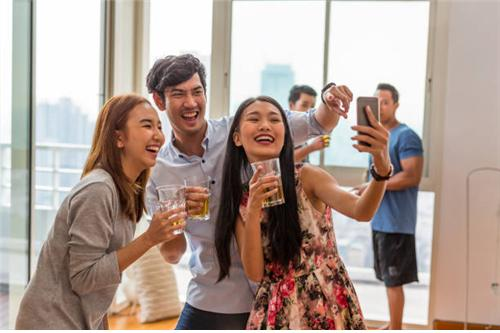alcohol: (251, 160, 285, 210), (154, 186, 187, 235), (184, 177, 212, 222)
